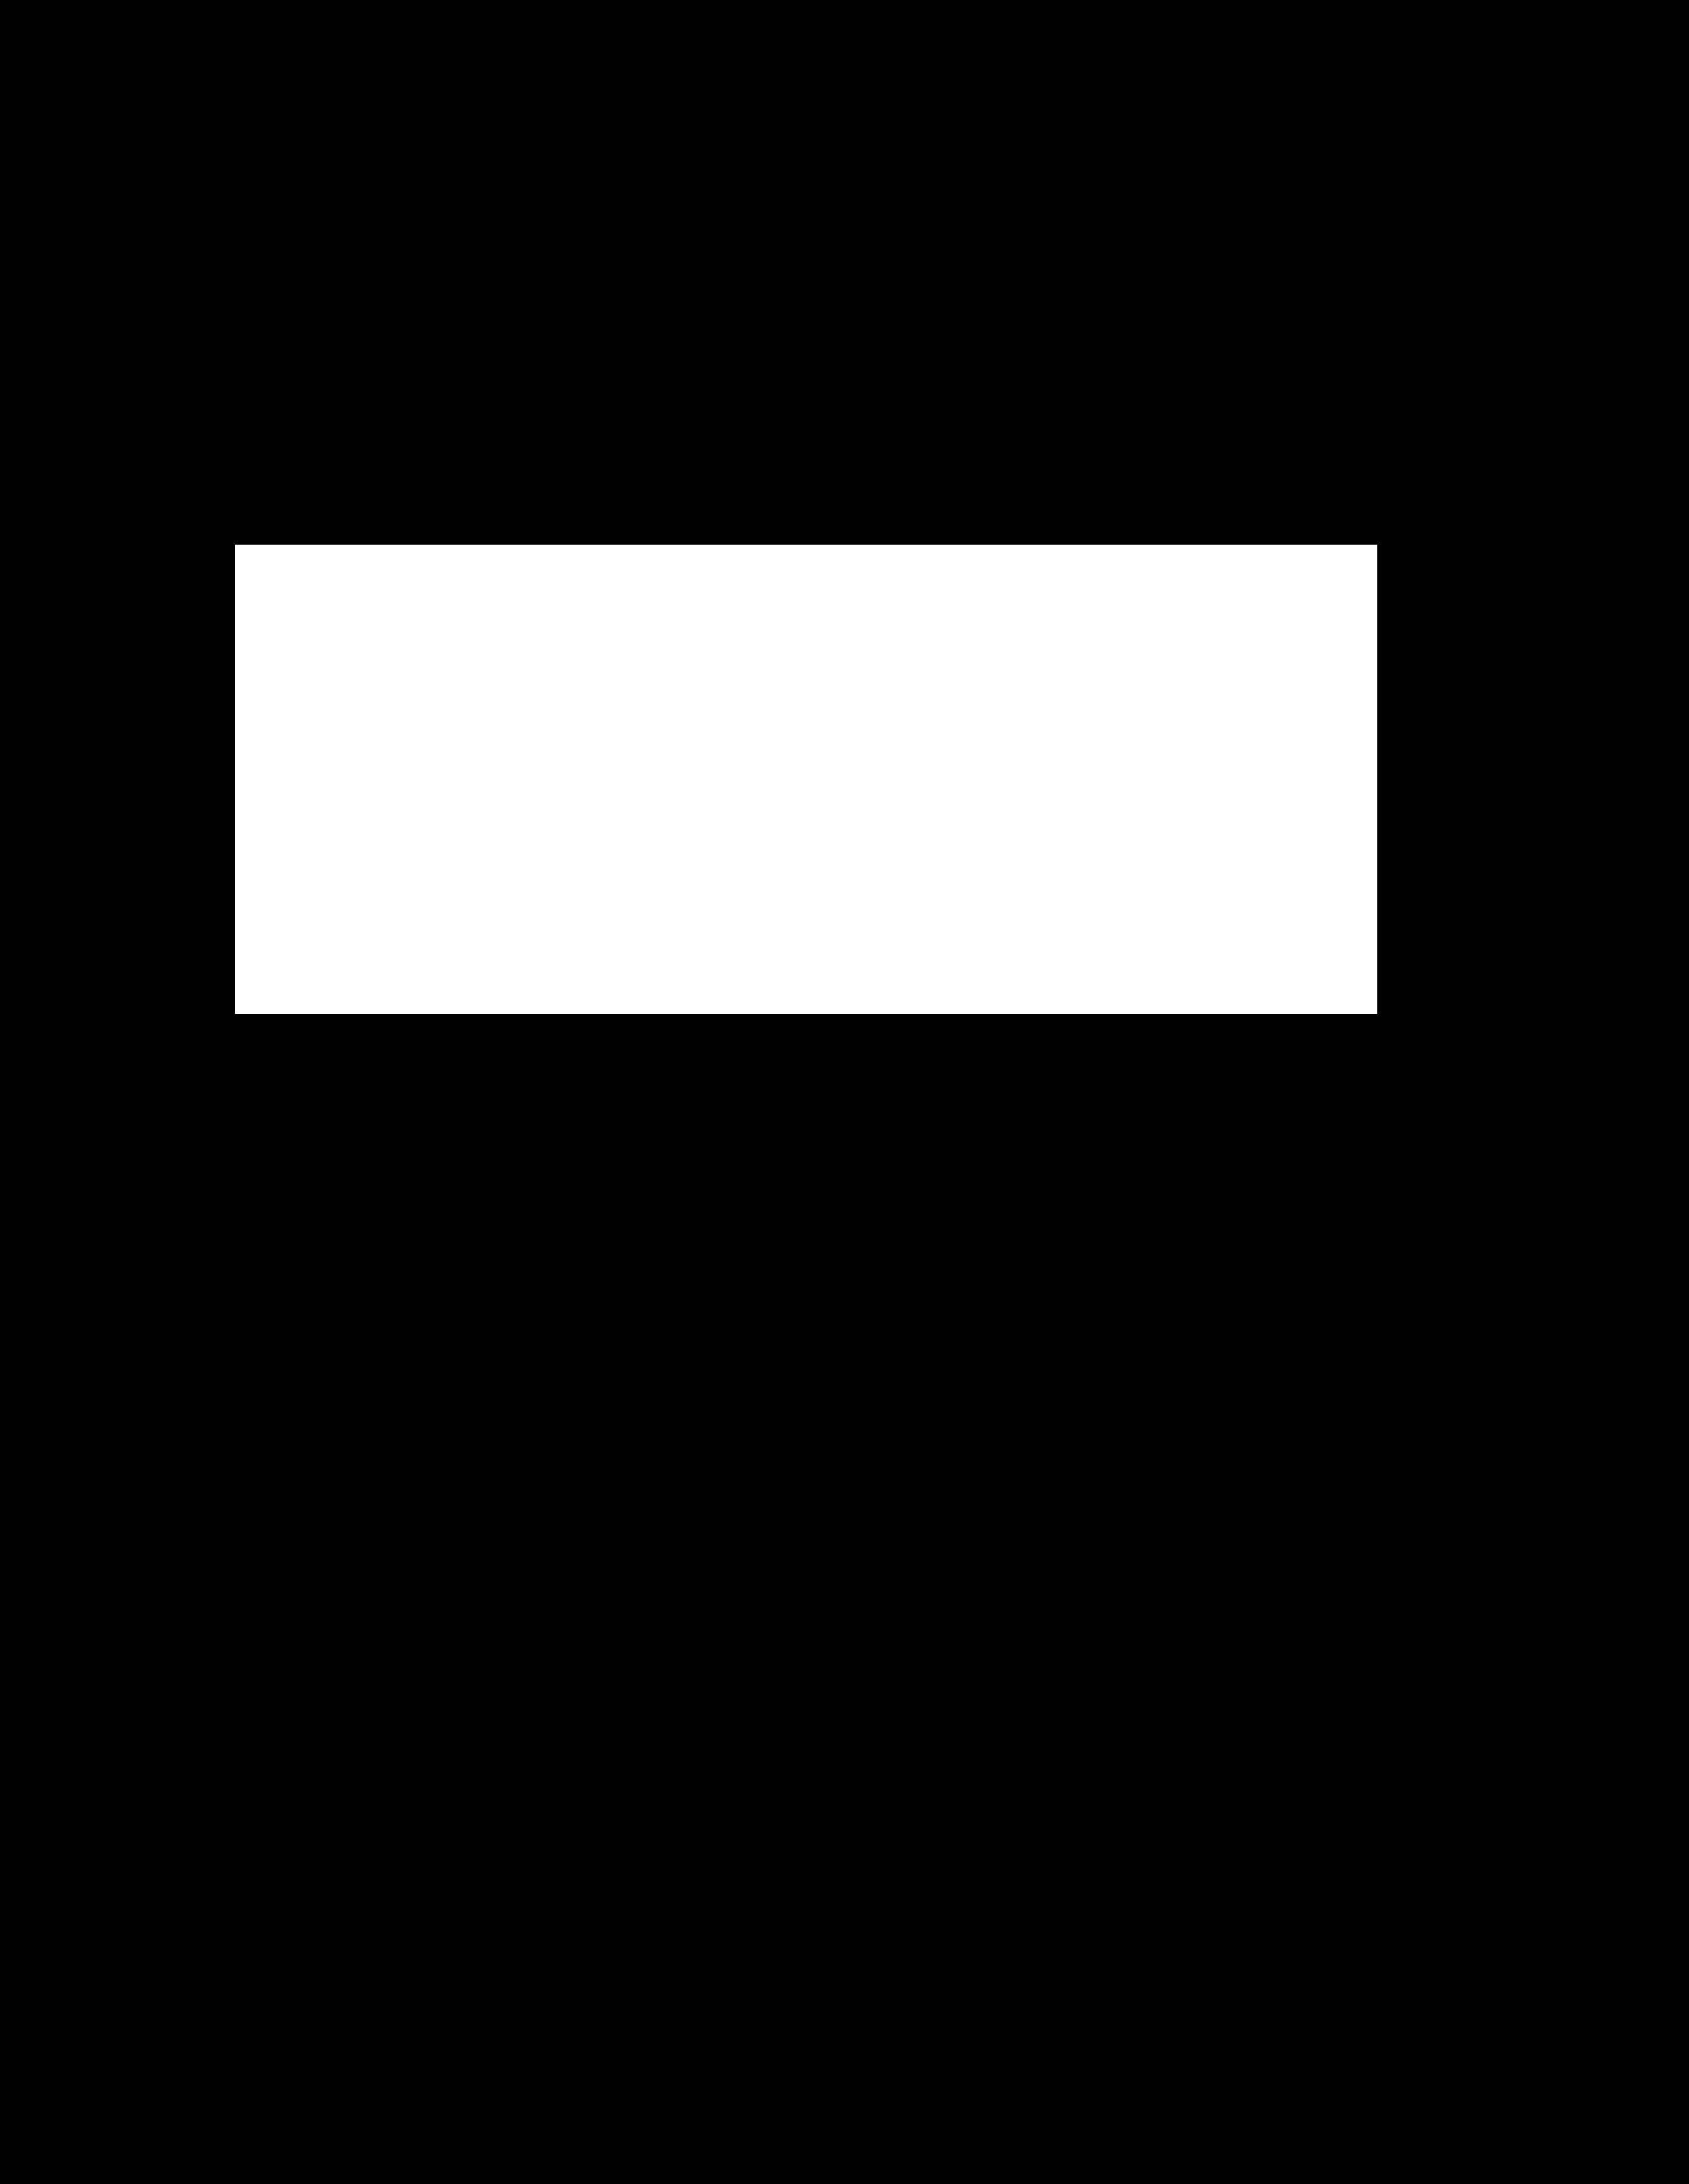table: (236, 544, 1377, 1014)
